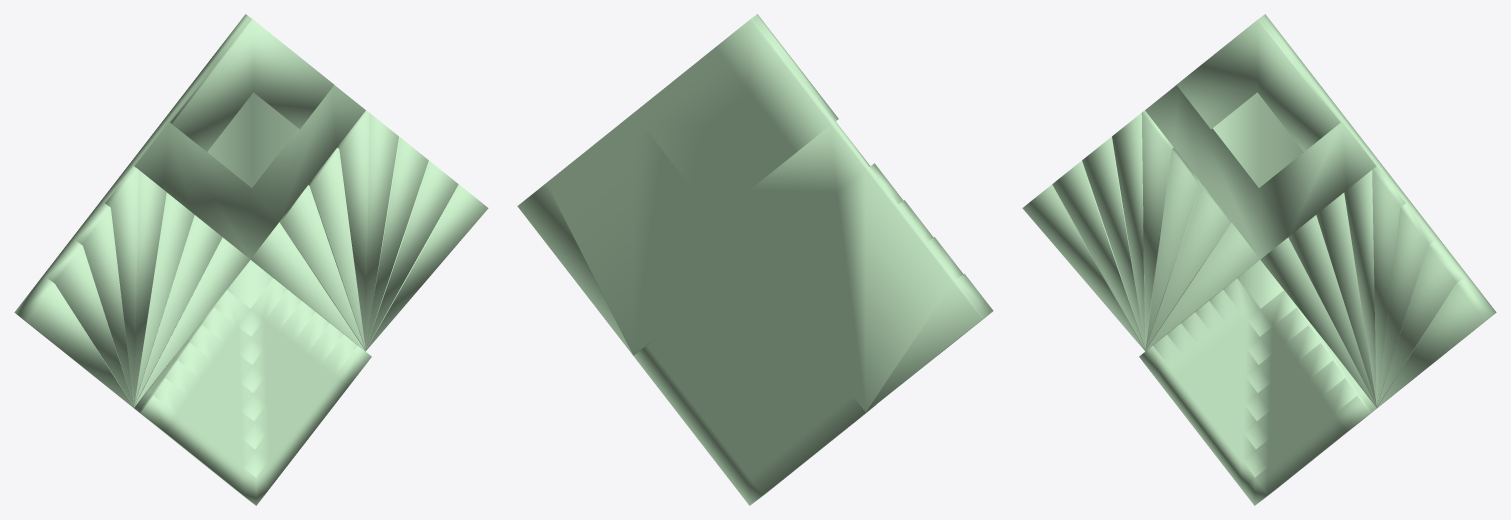
The picture shows the model from 3 angles, left to right: view 1: azimuth 30°, elevation 25°; view 2: azimuth 150°, elevation 25°; view 3: azimuth 330°, elevation 25°; orthographic projection.
Parts seen in each view (by area): view 1: Box014; view 2: Box014; view 3: Box014.
Boxes of the visible parts, x1,y1,x2,y2 form: Box014: [14, 14, 488, 505]; Box014: [517, 14, 993, 505]; Box014: [1022, 14, 1496, 505].
Size of the model in its own units: 849 by 849 by 37.
